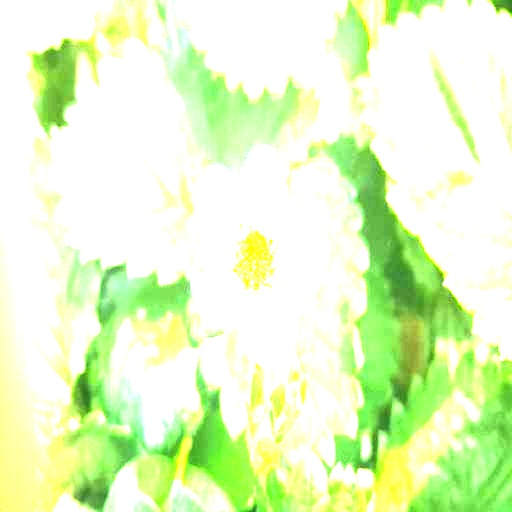Blossom Blight: (224, 213, 284, 300)
